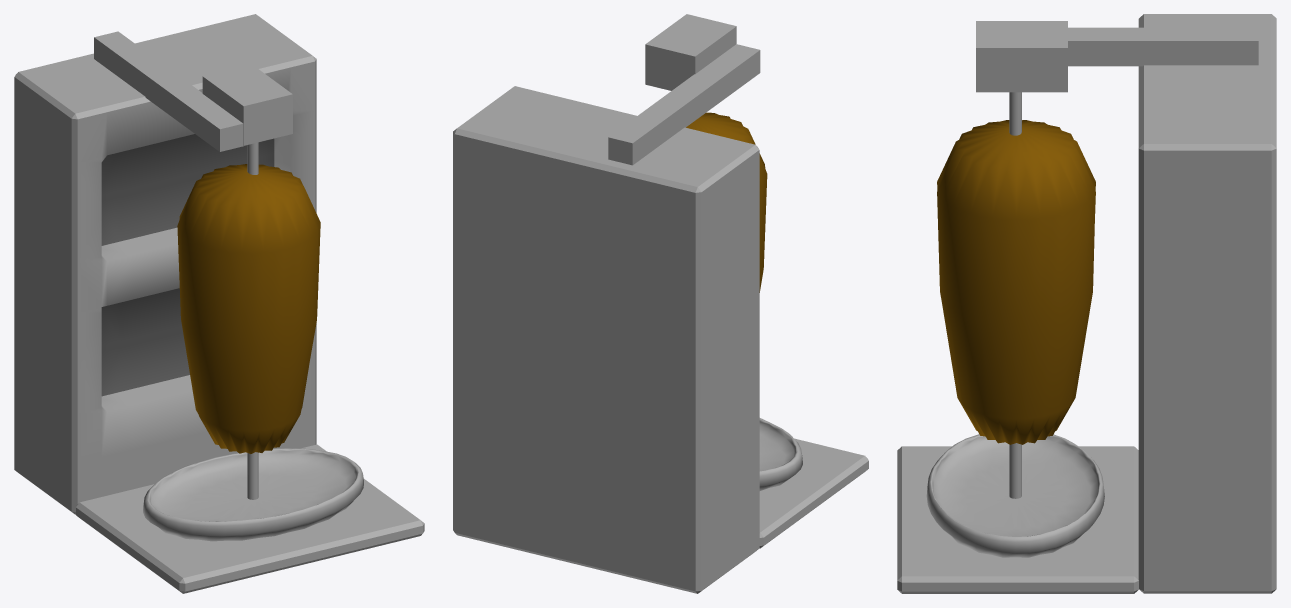
Rendered from KebabGeo 1.fbx.
3 views of the same model, side by side, from view 1: azimuth 30°, elevation 25°; view 2: azimuth 150°, elevation 25°; view 3: azimuth 270°, elevation 25° (orthographic). The views are drawn at different scales.
Parts seen in each view (by area): view 1: kebabgeo; view 2: kebabgeo; view 3: kebabgeo.
Boxes of the visible parts, x1,y1,x2,y2 form: kebabgeo: (14,14,424,593); kebabgeo: (453,14,868,593); kebabgeo: (897,14,1276,593).
Bounding box in the file's own units: 115 × 198 × 138.
